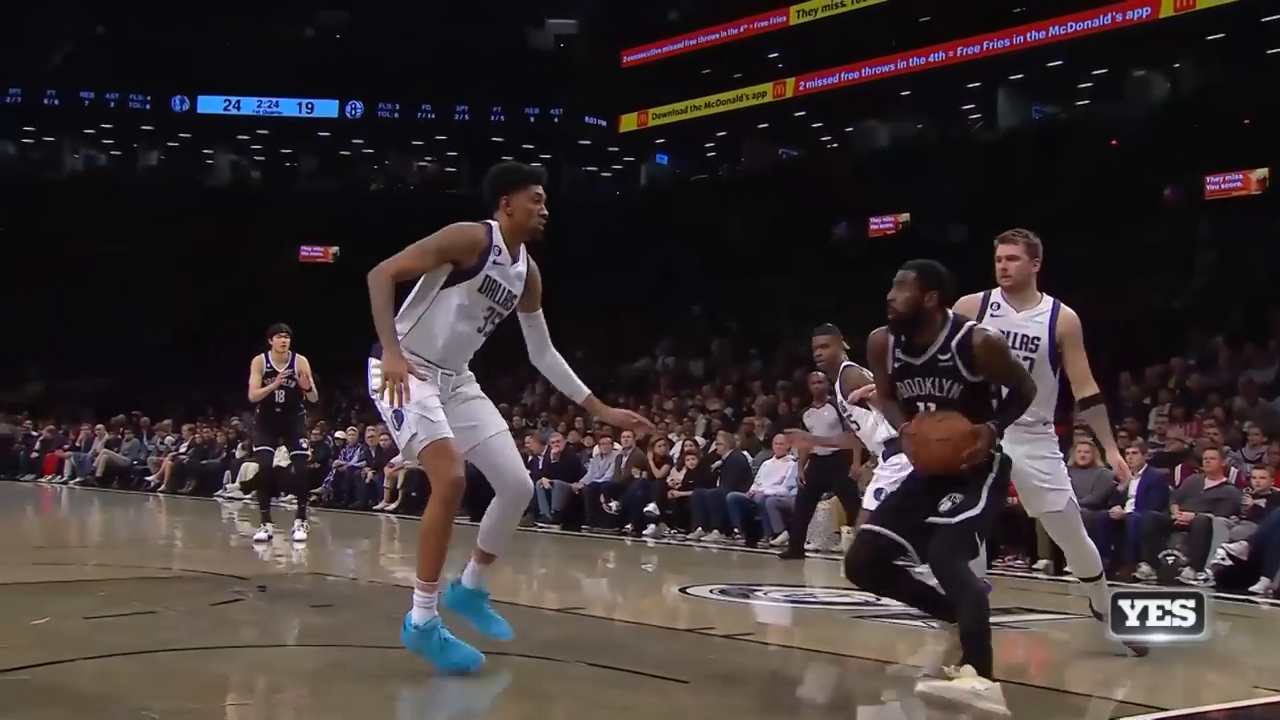ball: (895, 402, 985, 483)
